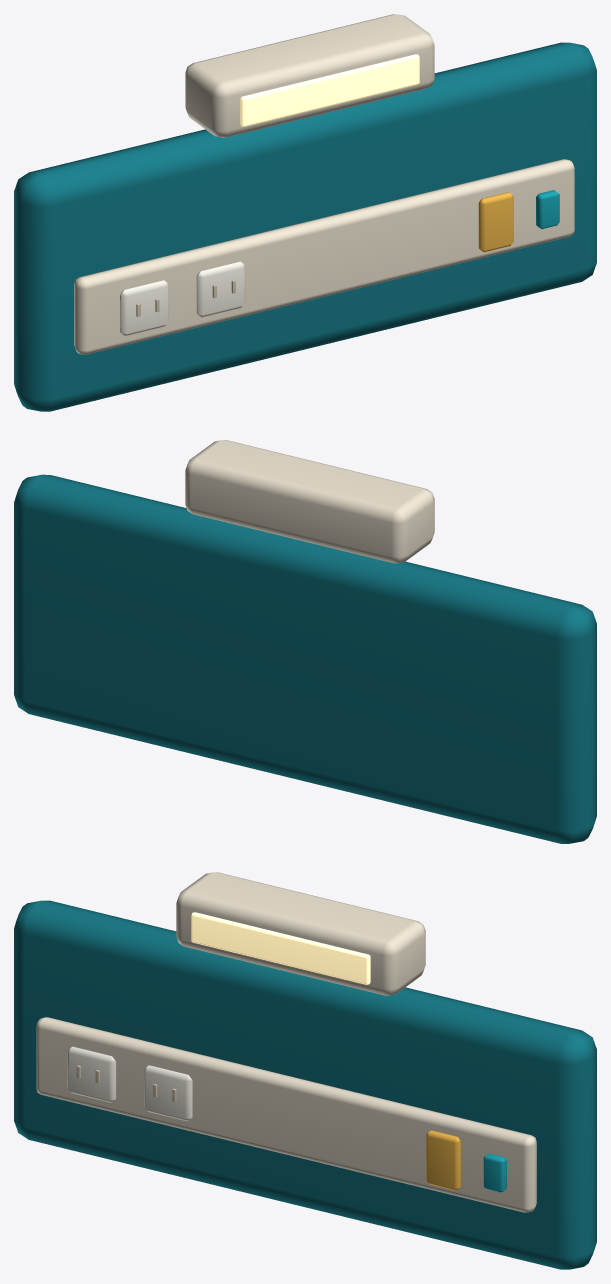
The model's file is Recovery_Headwall_Panel.glb.
3 views of the same model, one above another, from view 1: azimuth 30°, elevation 25°; view 2: azimuth 150°, elevation 25°; view 3: azimuth 330°, elevation 25° (orthographic).
Visible parts, largest first — view 1: Recovery_Headwall_Panel__Visual, Recovery_Headwall_Panel__Light_Face; view 2: Recovery_Headwall_Panel__Visual; view 3: Recovery_Headwall_Panel__Visual, Recovery_Headwall_Panel__Light_Face.
Boxes of the visible parts, left/top/right/bottom form: Recovery_Headwall_Panel__Visual: left=14, top=14, right=596, bottom=411; Recovery_Headwall_Panel__Light_Face: left=240, top=54, right=419, bottom=126; Recovery_Headwall_Panel__Visual: left=14, top=440, right=596, bottom=843; Recovery_Headwall_Panel__Visual: left=14, top=872, right=596, bottom=1269; Recovery_Headwall_Panel__Light_Face: left=191, top=912, right=370, bottom=984.
Bounding box in the file's own units: 1.5 × 0.751 × 0.203.
2 materials, 1 textured.
